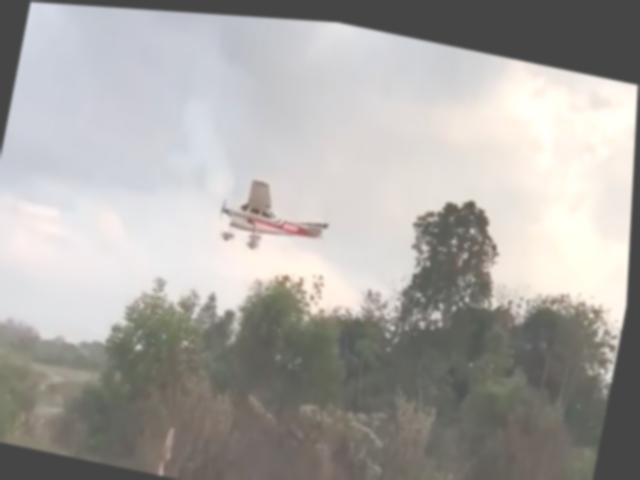plane: (214, 171, 337, 260)
